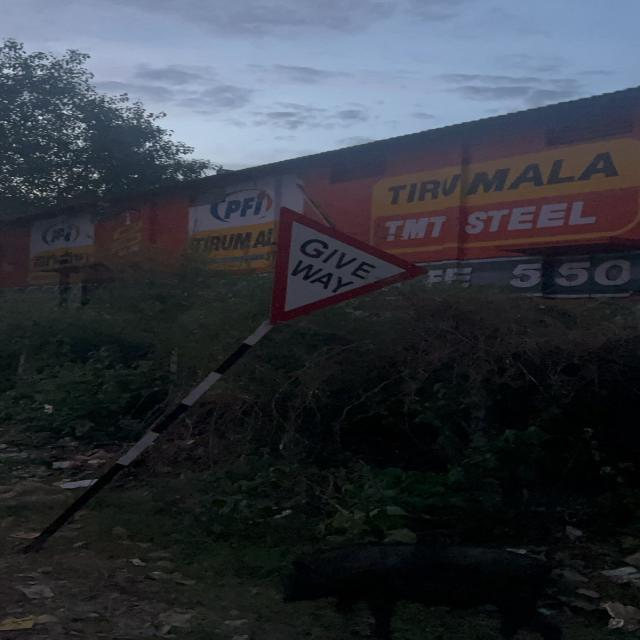giveway: (262, 208, 431, 326)
